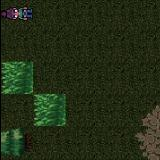Obstacle: (0, 126, 32, 160)
Slow: (0, 62, 32, 94), (32, 95, 64, 126)
Victim: (0, 0, 33, 29)
